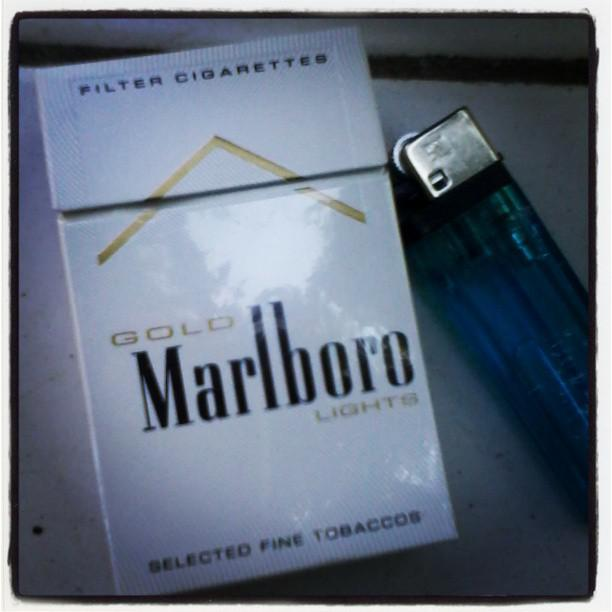marlboro_gold: (89, 64, 411, 556)
